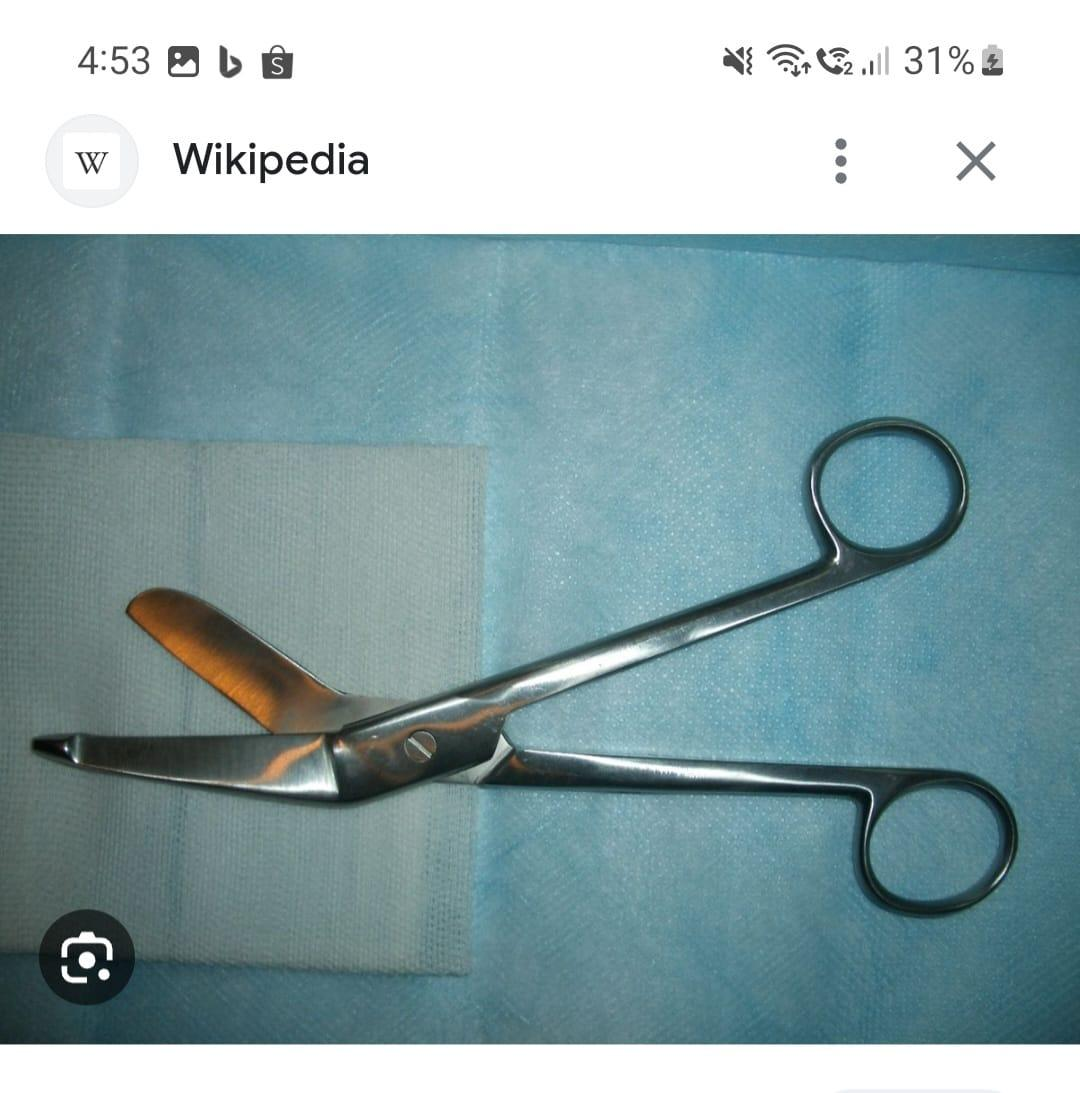Bandage Sciccors: (13, 403, 1022, 927)
